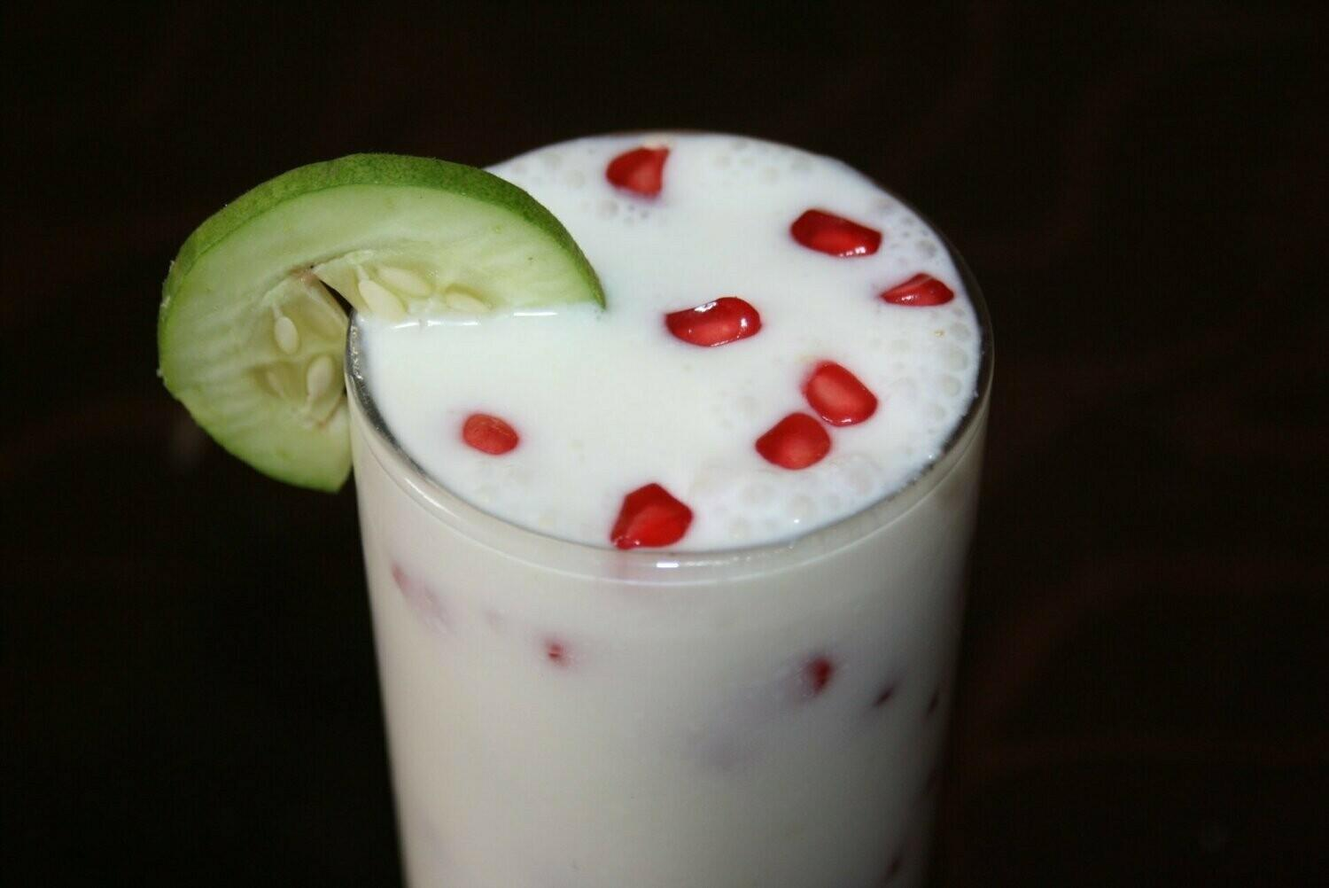Lassi: (346, 134, 992, 888)
